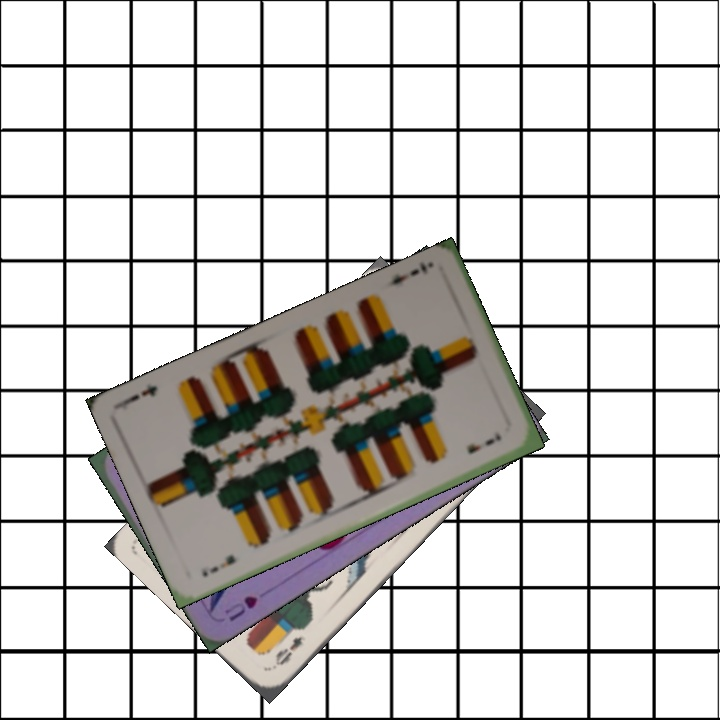E7: (381, 258, 430, 291), (197, 550, 238, 580)
EO: (268, 621, 309, 671)
HU: (220, 591, 260, 625)
